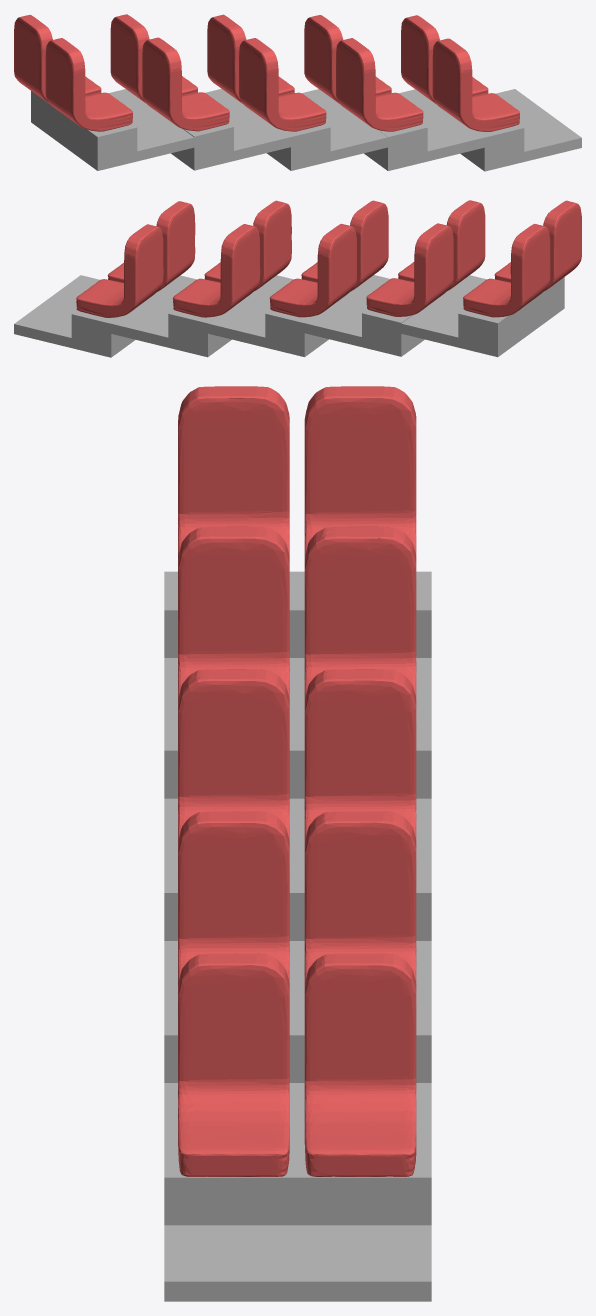
The model's file is Bleacher Midsection.fbx.
The picture shows the model from 3 angles, top to bottom: view 1: azimuth 30°, elevation 25°; view 2: azimuth 150°, elevation 25°; view 3: azimuth 270°, elevation 25°; orthographic projection. The views are drawn at different scales.
Visible parts, largest first — view 1: Bleachers_Midsection Low Poly; view 2: Bleachers_Midsection Low Poly; view 3: Bleachers_Midsection Low Poly.
Part boxes in pixels (box(x1,y1,x2,y2)): Bleachers_Midsection Low Poly: box(14, 14, 581, 171); Bleachers_Midsection Low Poly: box(14, 200, 581, 357); Bleachers_Midsection Low Poly: box(164, 386, 431, 1301).
Size of the model in its own units: 12.77 by 5.11 by 2.92.
